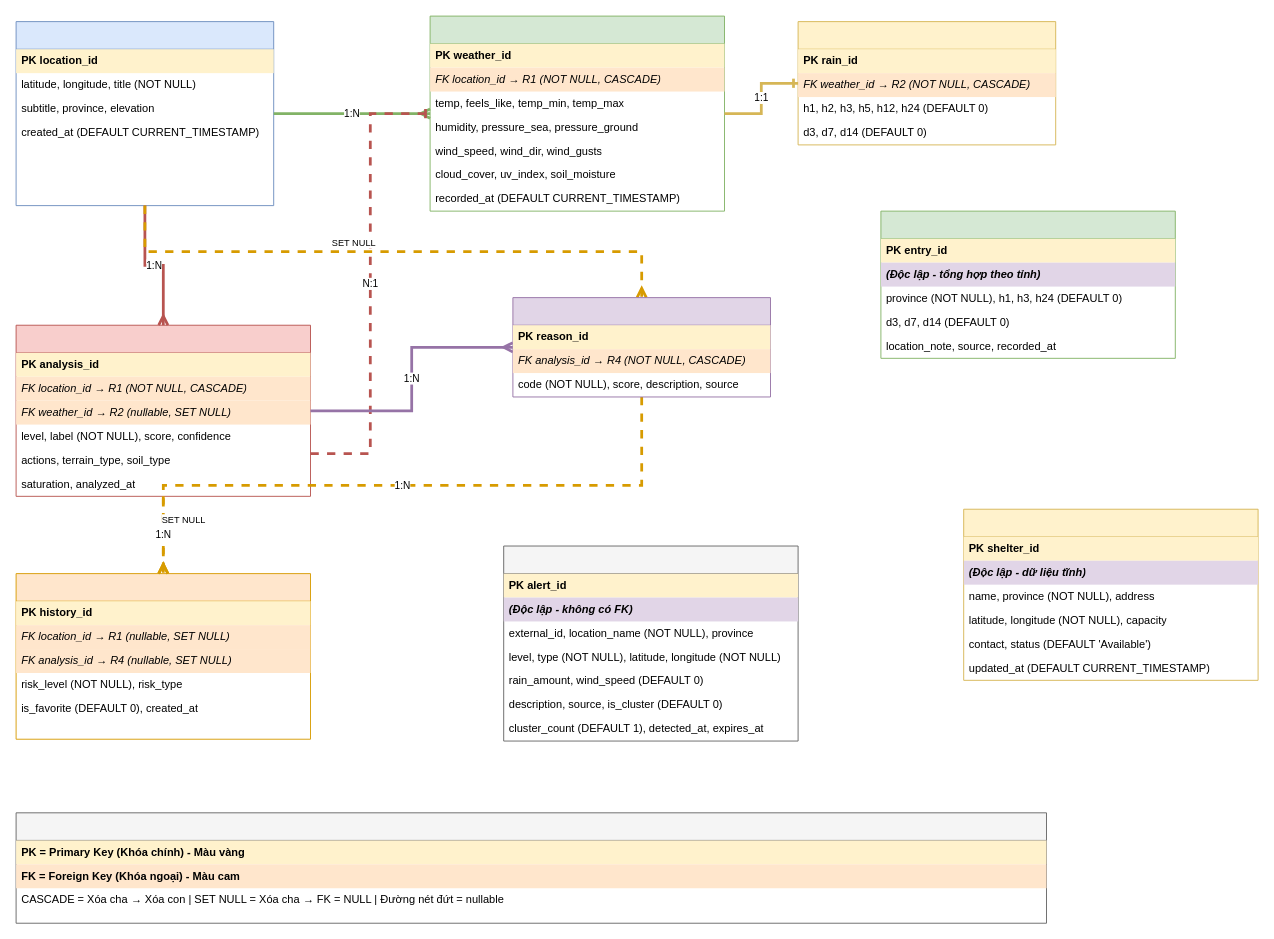
The diagram is 1274 pixels wide and 939 high, and some of its shapes have lost their labels. Each missing label, with the box of its shape:
CHÚ THÍCH: (15, 812, 1046, 923)
R1: LOCATIONS: (15, 21, 274, 206)
R2: WEATHER_RECORDS: (429, 15, 724, 211)
R3: RAIN_STATS: (797, 21, 1056, 145)
R4: RISK_ANALYSES: (15, 324, 310, 496)
R5: RISK_REASONS: (512, 297, 770, 397)
R6: ANALYSIS_HISTORY: (15, 573, 310, 739)
R7: ALERTS: (503, 545, 798, 741)
R8: PROVINCE_RAIN_HISTORY: (880, 210, 1175, 358)
R9: SHELTERS: (963, 508, 1258, 680)
